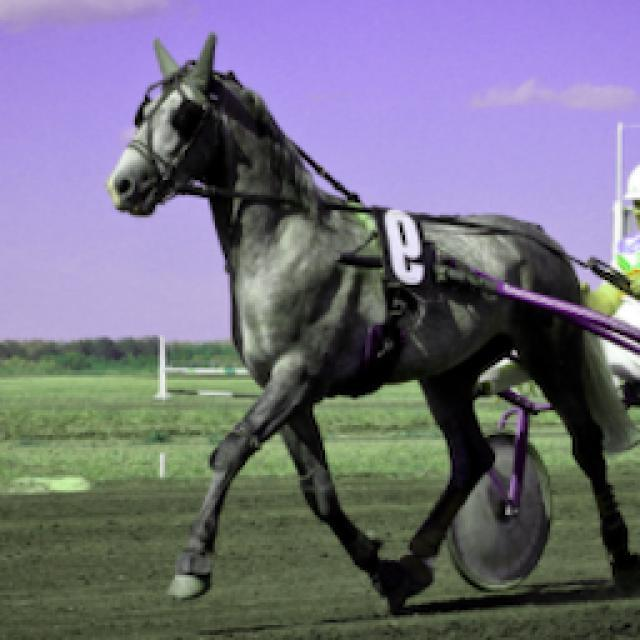Horse: (102, 28, 640, 618)
